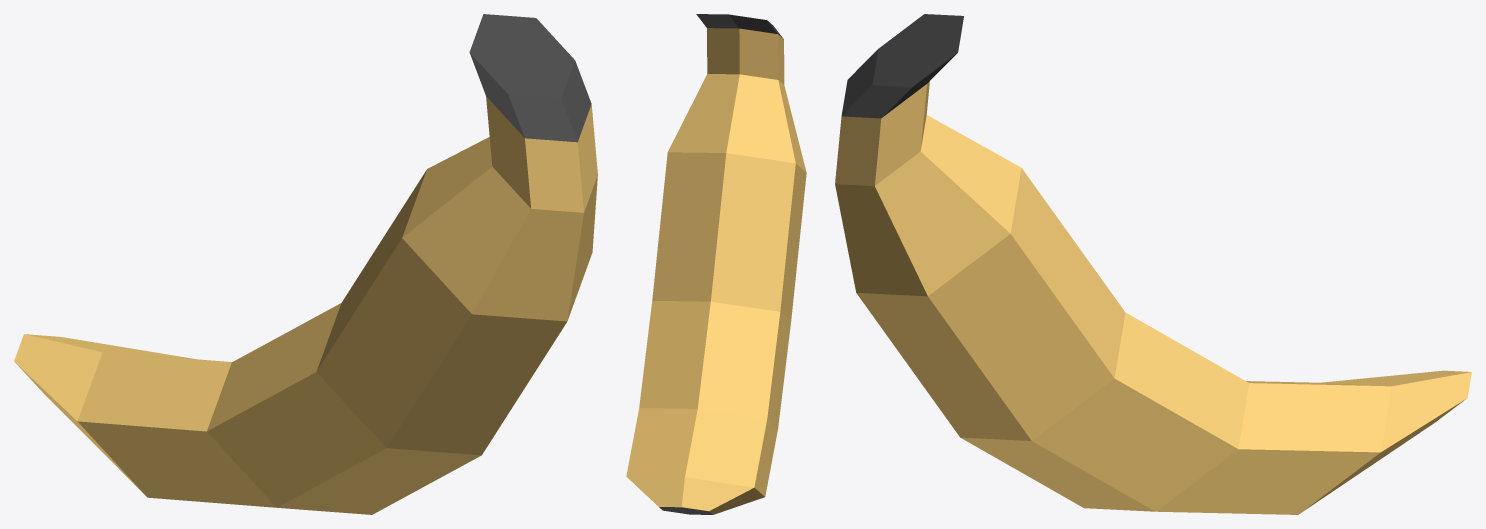
The model's file is Yellow_banana.fbx.
The picture shows the model from 3 angles, left to right: view 1: azimuth 30°, elevation 25°; view 2: azimuth 150°, elevation 25°; view 3: azimuth 270°, elevation 25°; orthographic projection. The views are drawn at different scales.
Visible parts, largest first — view 1: Cylinder.006; view 2: Cylinder.006; view 3: Cylinder.006.
Part boxes in pixels (left/top/right/bottom): Cylinder.006: left=14, top=14, right=597, bottom=514; Cylinder.006: left=626, top=14, right=806, bottom=514; Cylinder.006: left=835, top=14, right=1471, bottom=514.
Size of the model in its own units: 84.34 by 146 by 155.
